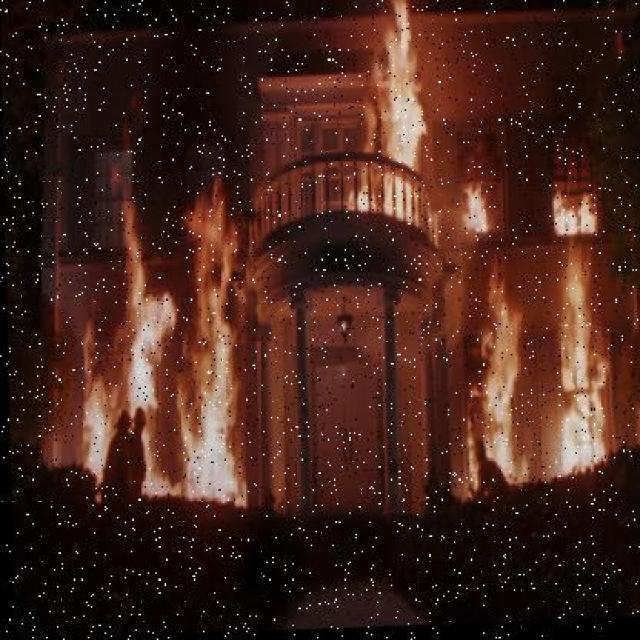fire: (96, 105, 257, 502)
